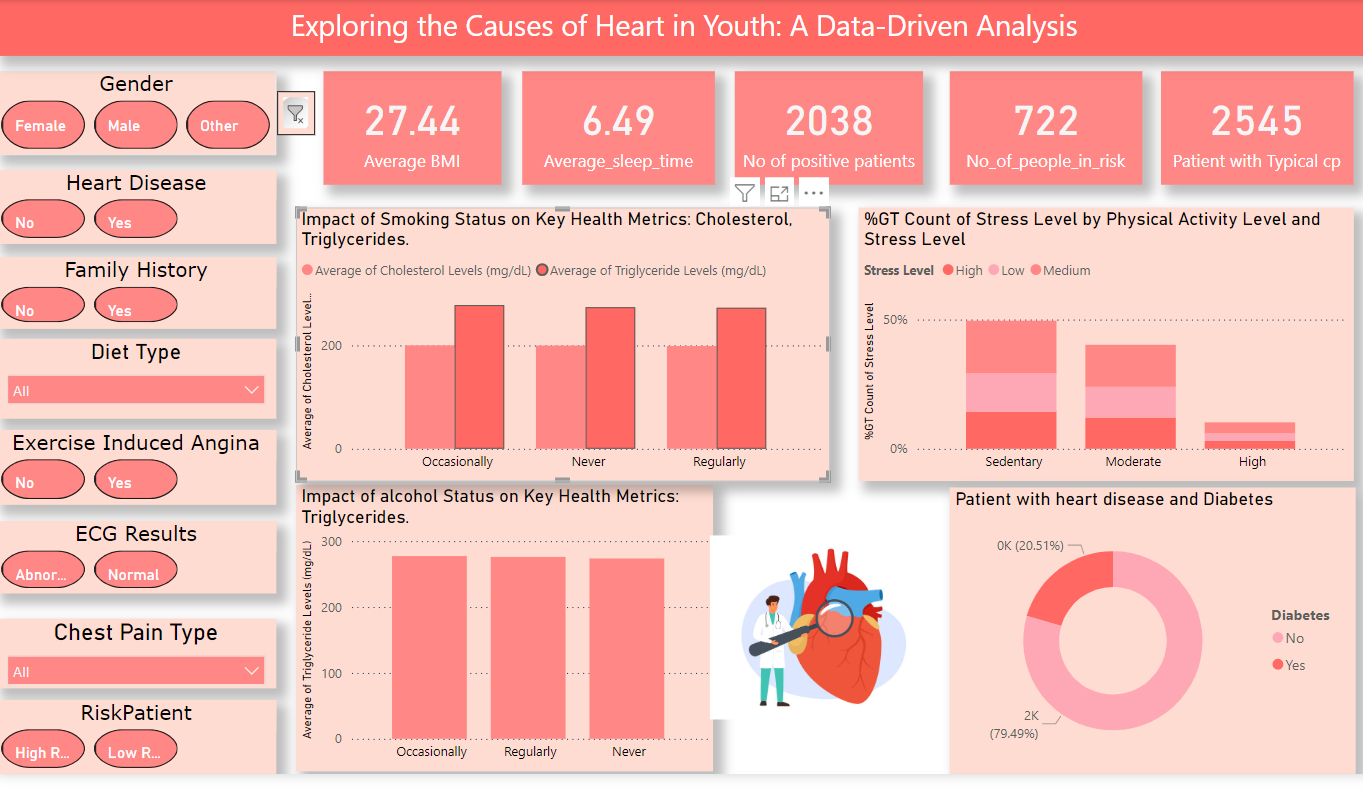

Layout of this report page (visuals, bound fields, positions):
{"tool":"powerbi","page":{"name":"Page 1","canvas":[1280,720],"ordinal":0},"visuals":[{"type":"advancedSlicerVisual","fields":{"Values":["heart_attack_youngsters_india.Gender"]},"box":[0,66.3,260.5,77.9],"z":0},{"type":"advancedSlicerVisual","fields":{"Values":["heart_attack_youngsters_india.Heart Attack Likelihood"]},"box":[0,158.1,260.5,68.6],"z":1000},{"type":"advancedSlicerVisual","fields":{"Values":["heart_attack_youngsters_india.Family History of Heart Disease"]},"box":[0,239.5,260.5,66.3],"z":2000},{"type":"slicer","title":"Diet Type","fields":{"Values":["heart_attack_youngsters_india.Diet Type"]},"box":[0,315.1,260.5,74.4],"z":3000},{"type":"advancedSlicerVisual","fields":{"Values":["heart_attack_youngsters_india.Exercise Induced Angina"]},"box":[0,400,260.5,69.8],"z":4000},{"type":"advancedSlicerVisual","fields":{"Values":["heart_attack_youngsters_india.ECG Results"]},"box":[0,484.9,260.5,67.4],"z":5000},{"type":"slicer","title":"Chest Pain Type","fields":{"Values":["heart_attack_youngsters_india.Chest Pain Type"]},"box":[0,575.6,260.5,65.1],"z":6000},{"type":"advancedSlicerVisual","fields":{"Values":["heart_attack_youngsters_india.RiskPatient"]},"box":[0,651.2,260.5,68.6],"z":7000},{"type":"card","fields":{"Values":["heart_attack_youngsters_india.Avg_BMI"]},"box":[304.7,66.8,165.6,105.7],"z":8000},{"type":"card","fields":{"Values":["heart_attack_youngsters_india.Avg_sleep_time"]},"box":[489.7,66.8,179.5,105.7],"z":9000},{"type":"card","fields":{"Values":["heart_attack_youngsters_india.PatientSufferHA"]},"box":[687.2,66.3,175.6,105.8],"z":10000},{"type":"card","fields":{"Values":["heart_attack_youngsters_india.No_of_people_in_risk"]},"box":[887.2,66.3,179.1,105.8],"z":11000},{"type":"card","fields":{"Values":["heart_attack_youngsters_india.No_of_chestPain_Typical"]},"box":[1083.7,66.3,179.1,105.8],"z":12000},{"type":"clusteredColumnChart","title":"Impact of Smoking Status on Key Health Metrics: Cholesterol, Triglycerides.","fields":{"Category":["heart_attack_youngsters_india.Smoking Status"],"Y":["Avg(heart_attack_youngsters_india.Cholesterol Levels (mg/dL))","Avg(heart_attack_youngsters_india.Triglyceride Levels (mg/dL))"]},"box":[279.1,193,496.5,254.7],"z":13000},{"type":"clusteredColumnChart","title":"Impact of alcohol Status on Key Health Metrics:  Triglycerides.","fields":{"Y":["Avg(heart_attack_youngsters_india.Triglyceride Levels (mg/dL))"],"Category":["heart_attack_youngsters_india.Alcohol Consumption"]},"box":[279.1,451.2,388.4,266.3],"z":14000},{"type":"columnChart","fields":{"Category":["heart_attack_youngsters_india.Physical Activity Level"],"Series":["heart_attack_youngsters_india.Stress Level"],"Y":["CountNonNull(heart_attack_youngsters_india.Stress Level)"]},"box":[802.3,193,460.5,254.7],"z":15000},{"type":"donutChart","title":"Patient with heart disease and Diabetes","fields":{"Category":["heart_attack_youngsters_india.Diabetes"],"Y":["heart_attack_youngsters_india.PatientSufferHA"]},"box":[887.2,453.5,377.9,266.3],"z":16000},{"type":"image","box":[261.6,84.9,34.9,40.7],"z":17000},{"type":"textbox","box":[0,0,1280.2,52.3],"z":18000},{"type":"image","box":[659.3,447.7,218.6,272.1],"z":19000}]}

Visuals, with their boxes in screenshot pixels (x1, y1, x2, y2), scaled from the page's 1280x720 canvas onto the 1363x789 screenshot:
advancedSlicerVisual - heart_attack_youngsters_india.Gender: BBox(0, 73, 277, 158)
advancedSlicerVisual - heart_attack_youngsters_india.Heart Attack Likelihood: BBox(0, 173, 277, 248)
advancedSlicerVisual - heart_attack_youngsters_india.Family History of Heart Disease: BBox(0, 262, 277, 335)
"Diet Type" slicer: BBox(0, 345, 277, 427)
advancedSlicerVisual - heart_attack_youngsters_india.Exercise Induced Angina: BBox(0, 438, 277, 515)
advancedSlicerVisual - heart_attack_youngsters_india.ECG Results: BBox(0, 531, 277, 605)
"Chest Pain Type" slicer: BBox(0, 631, 277, 702)
advancedSlicerVisual - heart_attack_youngsters_india.RiskPatient: BBox(0, 714, 277, 788)
card - heart_attack_youngsters_india.Avg_BMI: BBox(324, 73, 501, 189)
card - heart_attack_youngsters_india.Avg_sleep_time: BBox(521, 73, 713, 189)
card - heart_attack_youngsters_india.PatientSufferHA: BBox(732, 73, 919, 189)
card - heart_attack_youngsters_india.No_of_people_in_risk: BBox(945, 73, 1135, 189)
card - heart_attack_youngsters_india.No_of_chestPain_Typical: BBox(1154, 73, 1345, 189)
"Impact of Smoking Status on Key Health Metrics: Cholesterol, Triglycerides." clusteredColumnChart: BBox(297, 211, 826, 491)
"Impact of alcohol Status on Key Health Metrics:  Triglycerides." clusteredColumnChart: BBox(297, 494, 711, 786)
columnChart - heart_attack_youngsters_india.Physical Activity Level x heart_attack_youngsters_india.Stress Level: BBox(854, 211, 1345, 491)
"Patient with heart disease and Diabetes" donutChart: BBox(945, 497, 1347, 788)
image: BBox(279, 93, 316, 138)
textbox: BBox(0, 0, 1362, 57)
image: BBox(702, 491, 935, 788)
